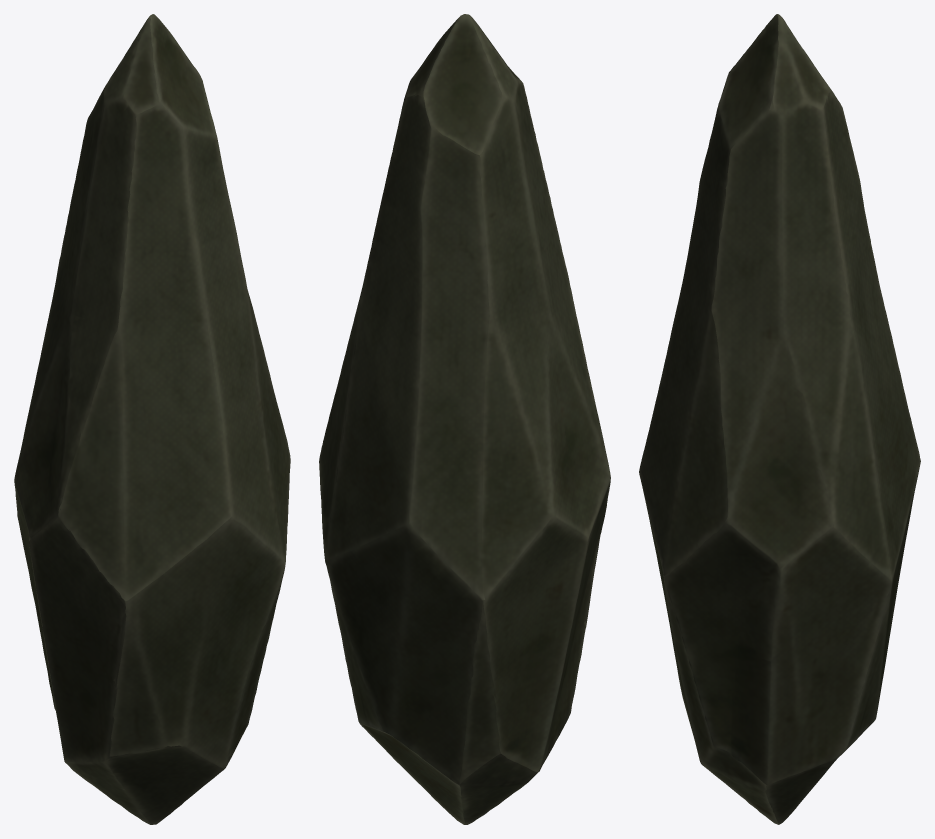
The picture shows the model from 3 angles, left to right: view 1: azimuth 30°, elevation 25°; view 2: azimuth 150°, elevation 25°; view 3: azimuth 270°, elevation 25°; orthographic projection.
Parts seen in each view (by area): view 1: world; view 2: world; view 3: world.
Boxes of the visible parts, <box> form: world: <box>14,14,290,824</box>; world: <box>319,14,610,824</box>; world: <box>639,14,920,824</box>.
Bounding box in the file's own units: 0.3189 × 1 × 0.3176.
Materials: 1 (1 with a texture image).
